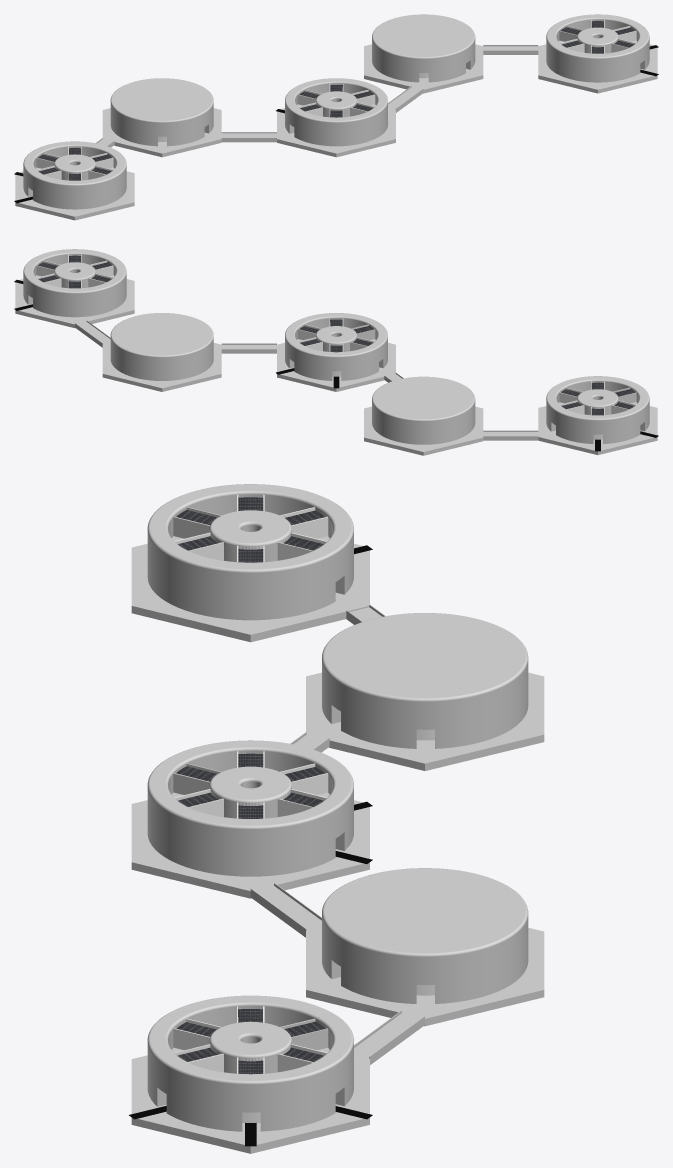
3 views of the same model, one above another, from view 1: azimuth 30°, elevation 25°; view 2: azimuth 150°, elevation 25°; view 3: azimuth 270°, elevation 25° (orthographic). The views are drawn at different scales.
Parts seen in each view (by area): view 1: Object_66, Object_13, Object_42, Object_150, Object_104, Object_110, Object_156, Object_233, Object_132, Object_181, Object_73, Object_207 (+16 smaller); view 2: Object_13, Object_66, Object_42, Object_156, Object_110, Object_104, Object_150, Object_132, Object_233, Object_73, Object_181, Object_207 (+16 smaller); view 3: Object_66, Object_42, Object_13, Object_104, Object_150, Object_156, Object_110, Object_233, Object_132, Object_73, Object_207, Object_181 (+18 smaller).
Boxes of the visible parts, x1=… form: Object_66: x1=23, y1=146, x2=126, y2=209; Object_13: x1=546, y1=19, x2=649, y2=82; Object_42: x1=285, y1=83, x2=387, y2=146; Object_150: x1=119, y1=81, x2=204, y2=117; Object_104: x1=381, y1=17, x2=466, y2=53; Object_110: x1=372, y1=38, x2=475, y2=82; Object_156: x1=110, y1=103, x2=213, y2=146; Object_233: x1=102, y1=108, x2=221, y2=154; Object_132: x1=364, y1=44, x2=483, y2=90; Object_181: x1=538, y1=44, x2=657, y2=90; Object_73: x1=15, y1=171, x2=134, y2=217; Object_207: x1=277, y1=108, x2=395, y2=154; Object_13: x1=23, y1=254, x2=126, y2=317; Object_66: x1=546, y1=381, x2=649, y2=443; Object_42: x1=285, y1=318, x2=387, y2=380; Object_156: x1=372, y1=401, x2=475, y2=444; Object_110: x1=110, y1=338, x2=213, y2=380; Object_104: x1=119, y1=316, x2=204, y2=352; Object_150: x1=381, y1=380, x2=466, y2=415; Object_132: x1=102, y1=343, x2=221, y2=388; Object_233: x1=364, y1=406, x2=483, y2=452; Object_73: x1=538, y1=406, x2=657, y2=451; Object_181: x1=15, y1=279, x2=134, y2=324; Object_207: x1=277, y1=343, x2=395, y2=388; Object_66: x1=147, y1=494, x2=353, y2=620; Object_42: x1=147, y1=750, x2=353, y2=876; Object_13: x1=147, y1=1006, x2=353, y2=1131; Object_104: x1=339, y1=874, x2=510, y2=946; Object_150: x1=339, y1=619, x2=510, y2=691; Object_156: x1=322, y1=661, x2=528, y2=748; Object_110: x1=322, y1=916, x2=528, y2=1003; Object_233: x1=306, y1=672, x2=544, y2=764; Object_132: x1=306, y1=927, x2=544, y2=1019; Object_73: x1=131, y1=543, x2=369, y2=635; Object_207: x1=131, y1=800, x2=369, y2=892; Object_181: x1=131, y1=1055, x2=369, y2=1147.
Bounding box in the file's own units: 538564 × 150955 × 23500.
Materials: 8 (1 with a texture image).
